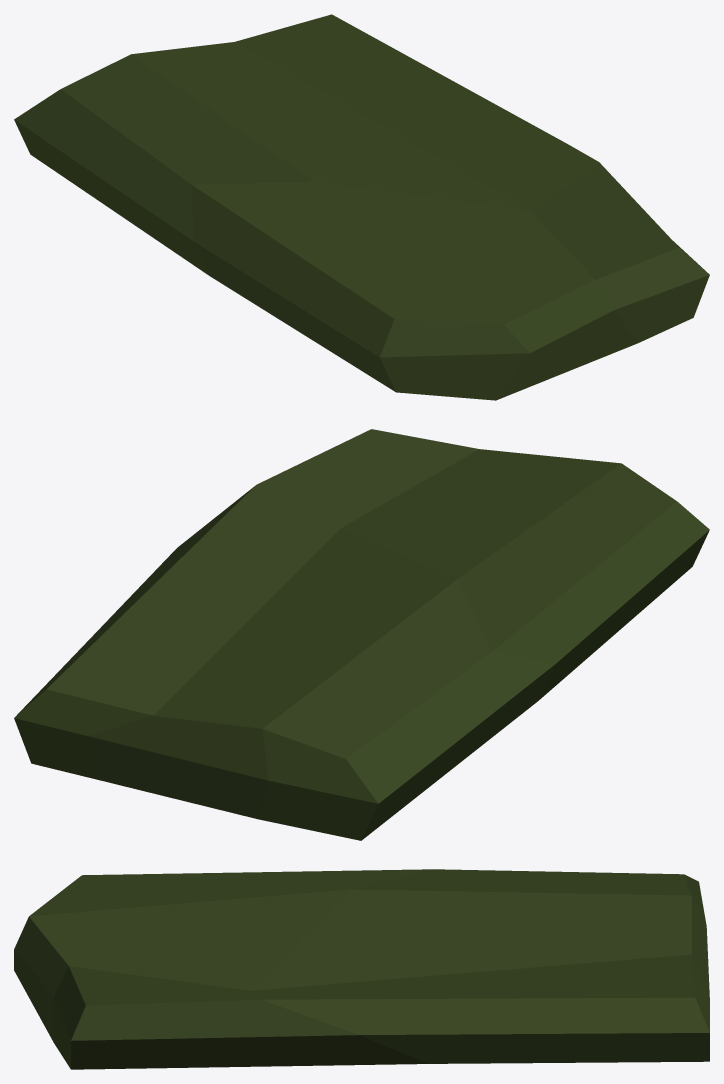
Rendered from Sleeping_Bag.fbx.
The picture shows the model from 3 angles, top to bottom: view 1: azimuth 30°, elevation 25°; view 2: azimuth 150°, elevation 25°; view 3: azimuth 270°, elevation 25°; orthographic projection. The views are drawn at different scales.
Visible parts, largest first — view 1: Sleeping_Bag; view 2: Sleeping_Bag; view 3: Sleeping_Bag.
Part boxes in pixels (bbox=[...]): Sleeping_Bag: bbox=[14, 14, 709, 400]; Sleeping_Bag: bbox=[14, 429, 709, 840]; Sleeping_Bag: bbox=[14, 869, 709, 1069].
Bounding box in the file's own units: 1.41 × 0.3133 × 2.45.
